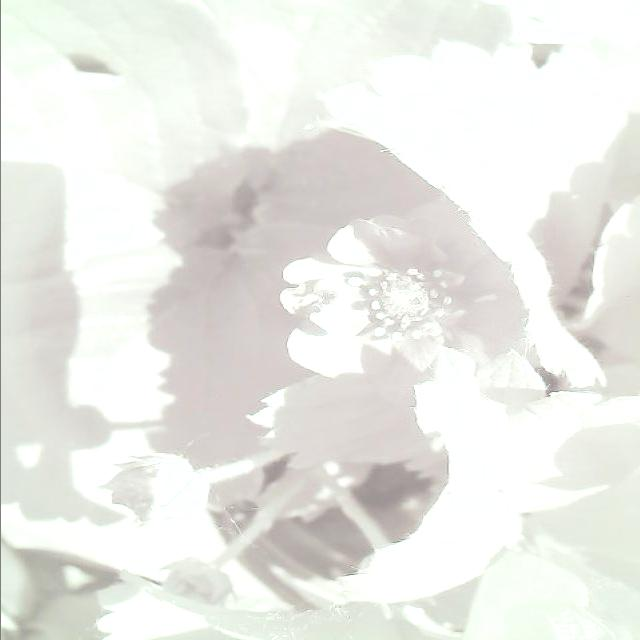flower: (274, 194, 546, 420)
